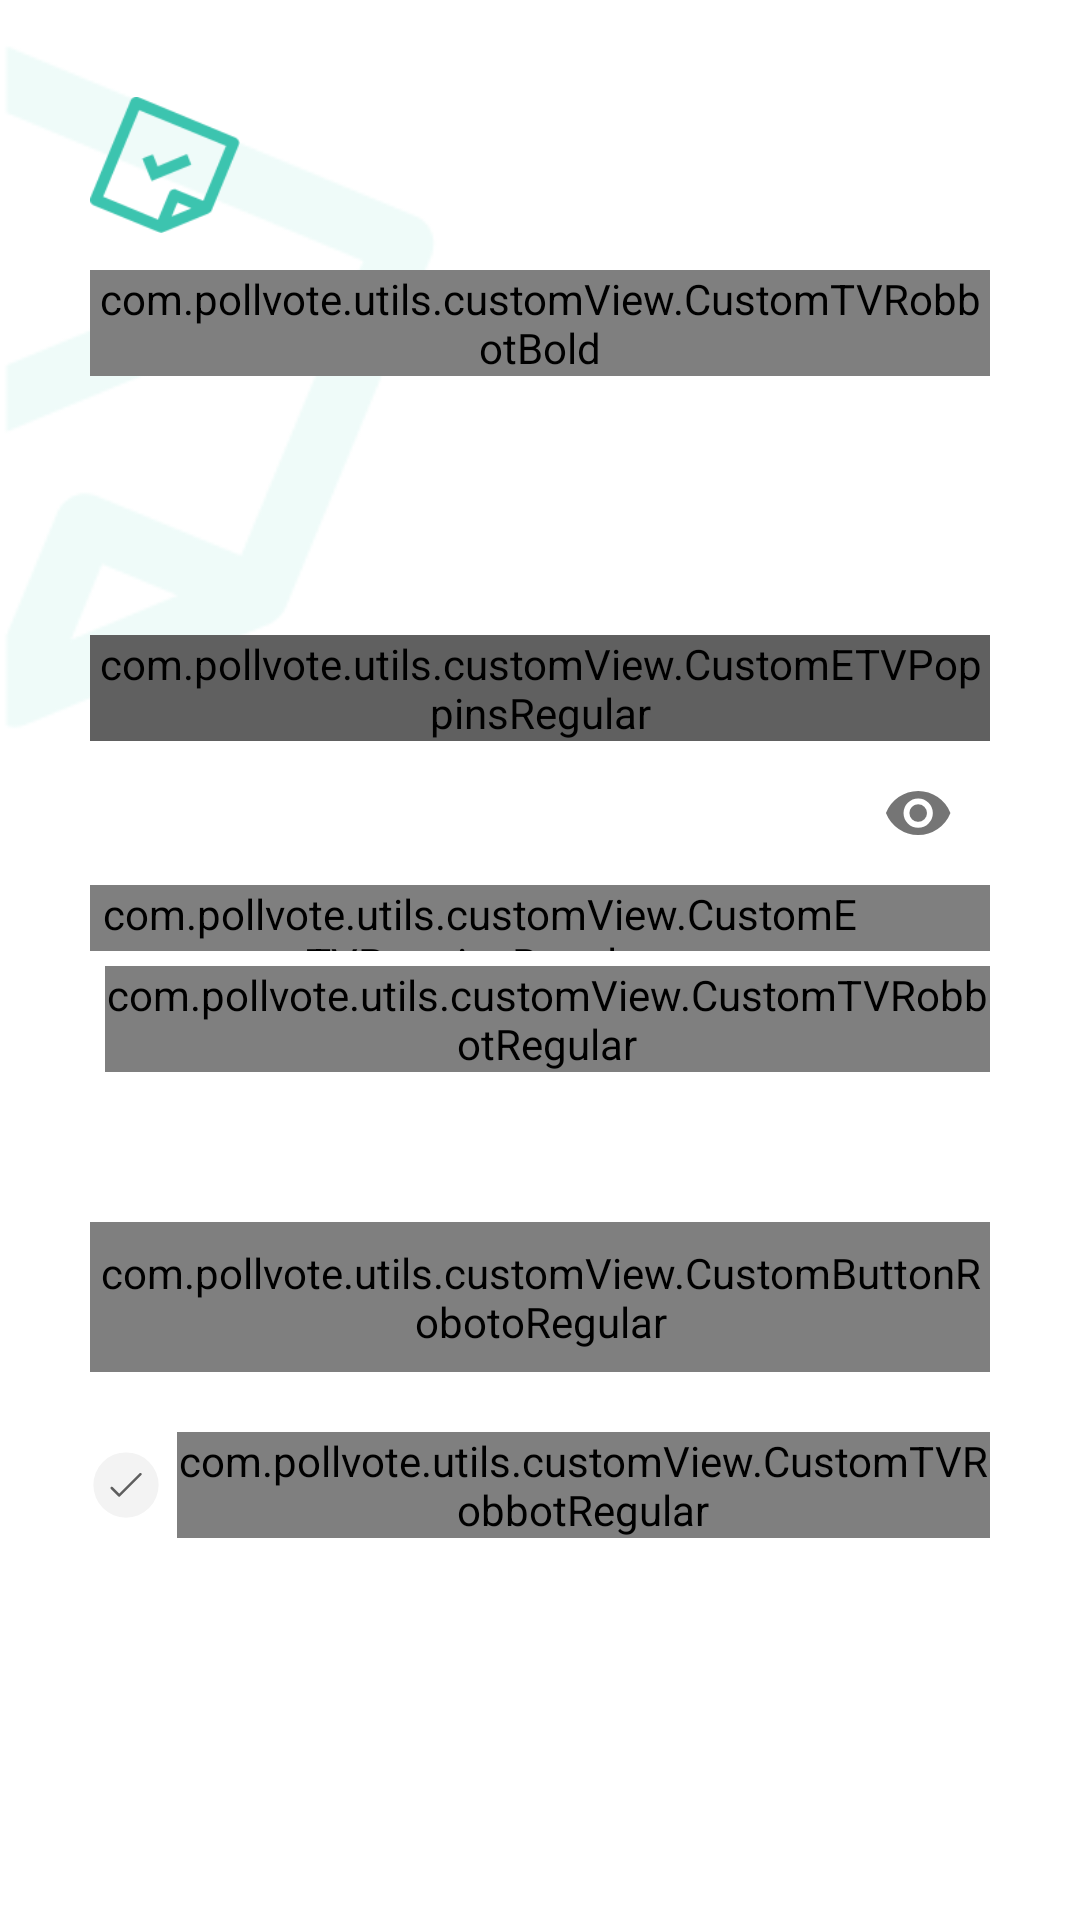

Screen size 1080w x 1920h. Icon name, then its box in pixels as (x1, y1, x2, y2):
login ok: (90, 97, 240, 233)
untick remeber: (94, 1453, 158, 1517)
